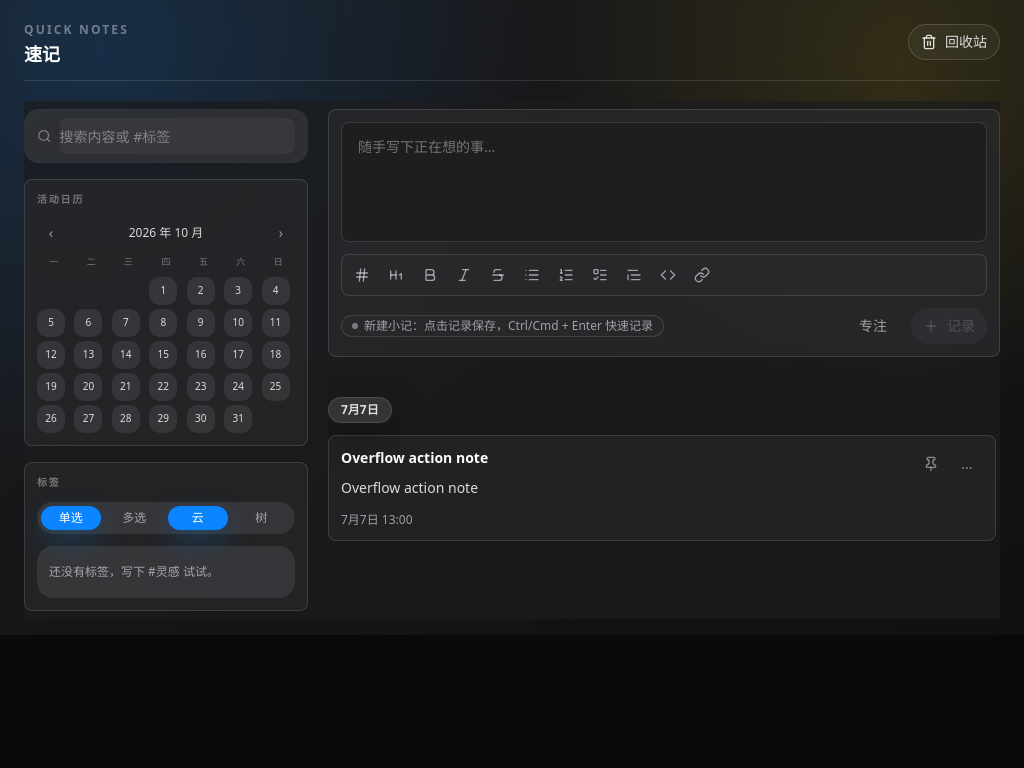
Test case: QuickNotesView › keeps pin primary and exposes remaining actions from an accessible overflow menu
The image size is (1024, 768).
Expected: the button named "置顶" is shown, x1=915 y1=448 x2=947 y2=480
Click the button named "更多小记操作": x=967, y=464 x1=951 y1=448 x2=983 y2=480
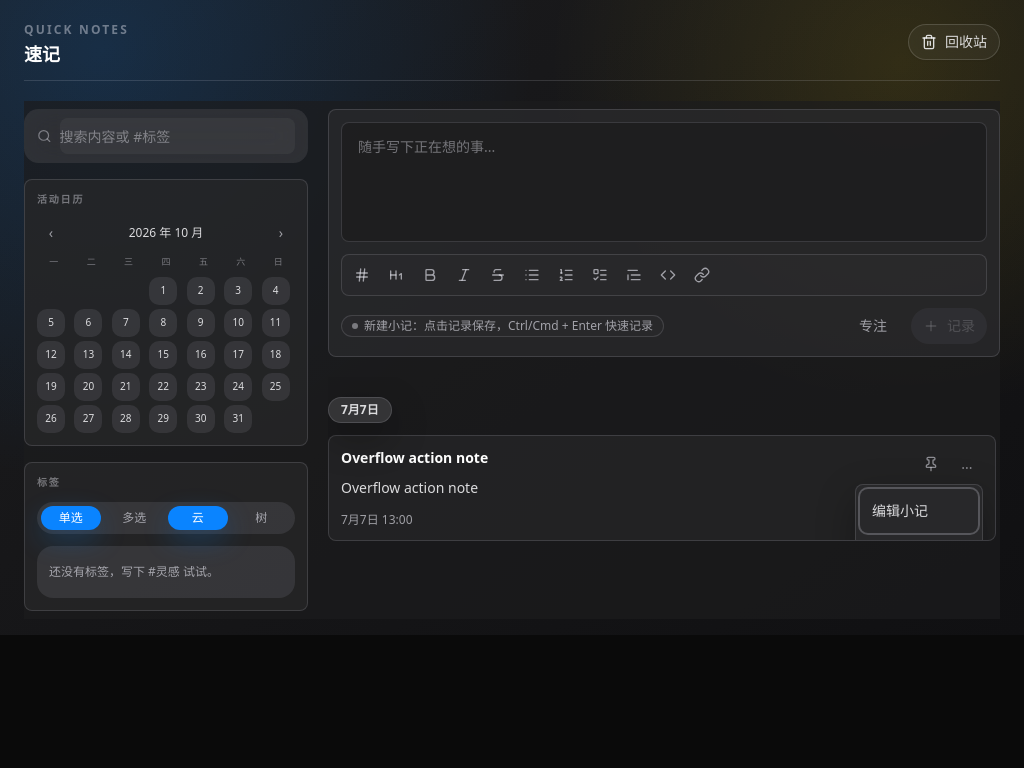
Now the menu item "编辑小记" is shown, box x1=860 y1=489 x2=978 y2=533
